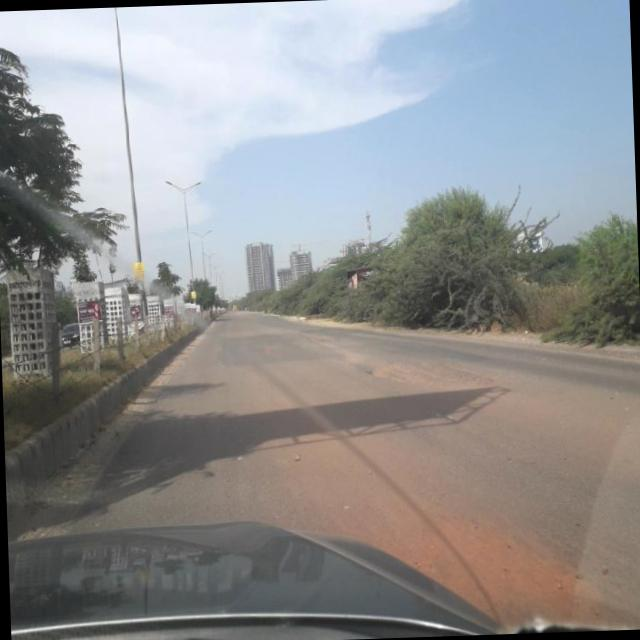pothole: (362, 346, 480, 392)
